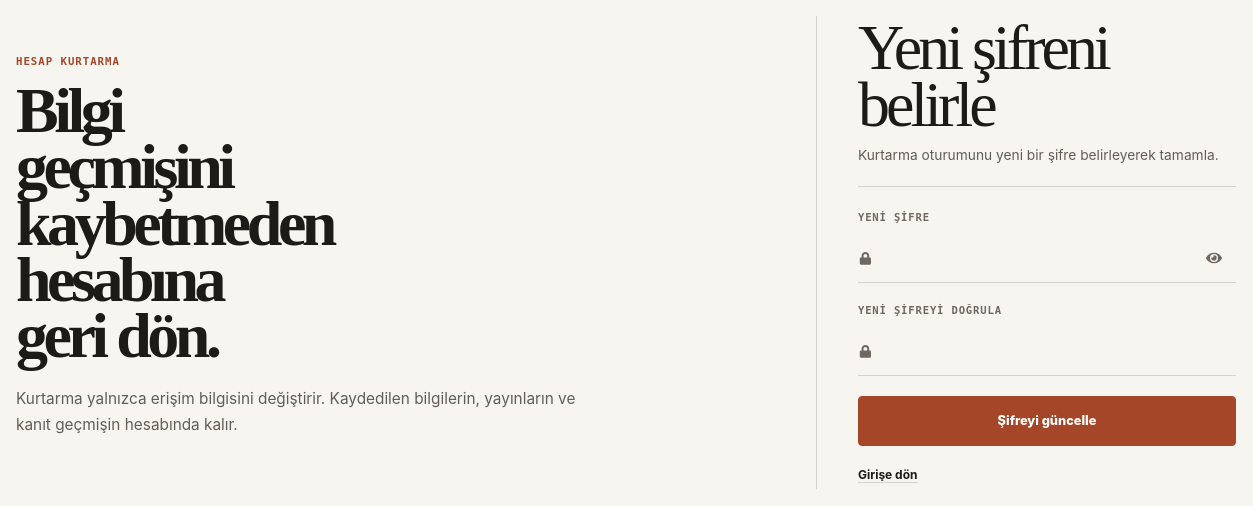
Test: PasswordRecoveryPage › updates the password when the recovery session has matching credentials
Step 1. Type "secure-pass-123" into the password field labelled "Yeni şifre" → [1047, 258], box [858,234,1236,283]
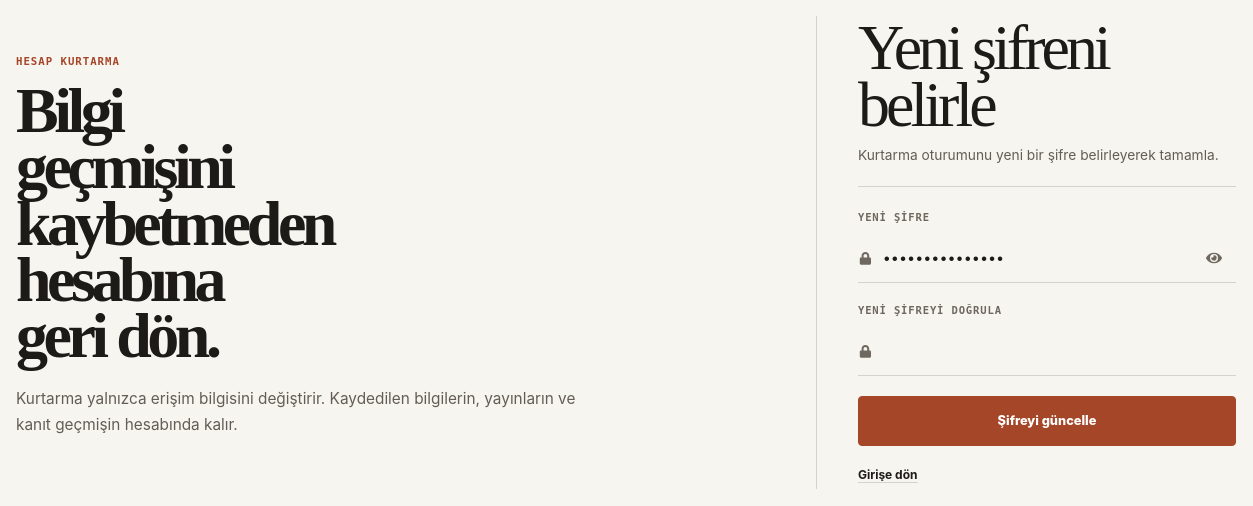
Step 2. Type "secure-pass-123" into the password field labelled "Yeni şifreyi doğrula" → [1047, 352], box [858,327,1236,376]
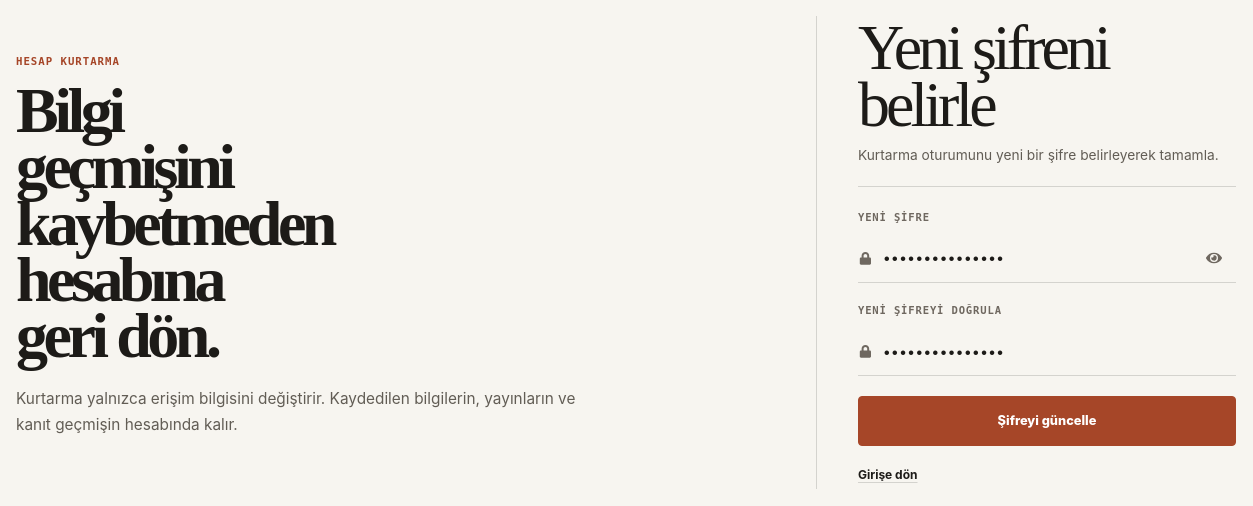
Step 3. Click the button "Şifreyi güncelle" → [1047, 421], box [858,396,1236,446]
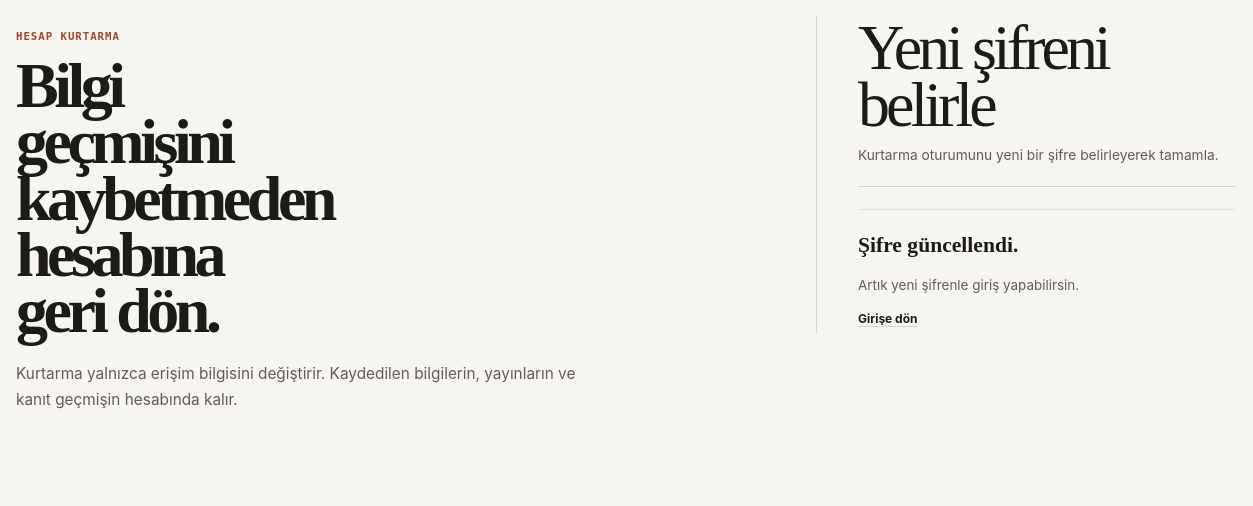
Expected: the text "Şifre güncellendi." is shown, [858,232,1018,256]
